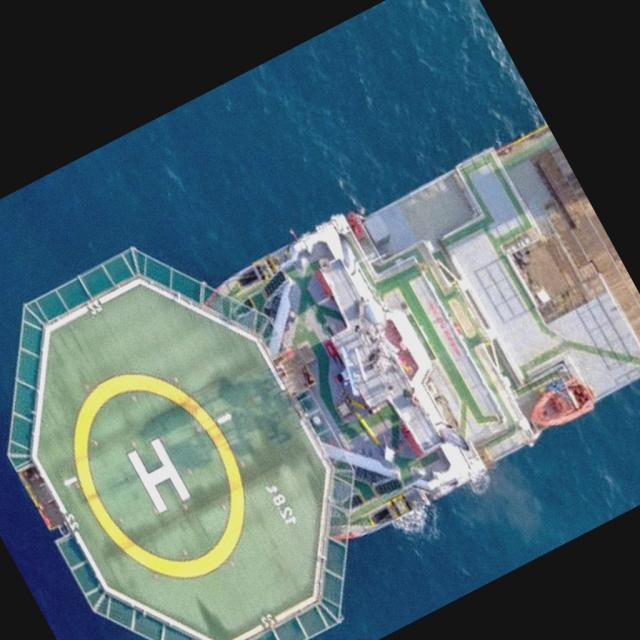helipad: (68, 369, 248, 581)
